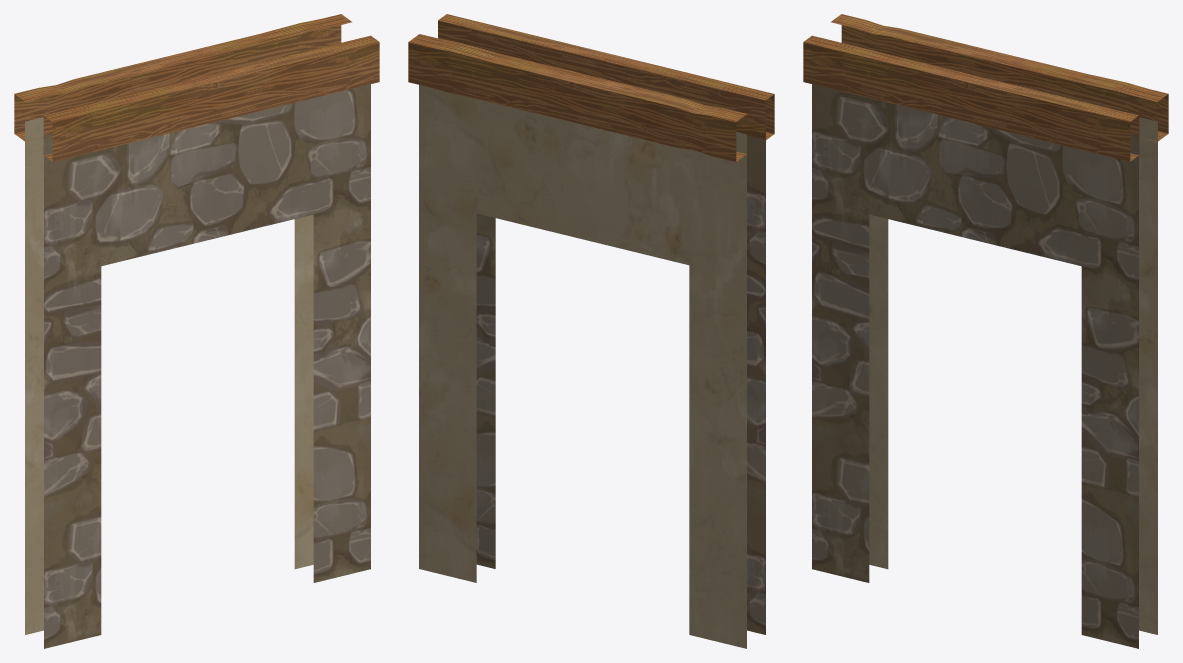
Rendered from Wall_UnevenBrick_Door_Flat.gltf.
3 renders of one model, left to right at view 1: azimuth 30°, elevation 25°; view 2: azimuth 150°, elevation 25°; view 3: azimuth 330°, elevation 25°, orthographic.
Parts seen in each view (by area): view 1: Wall_UnevenBrick_Door_Flat; view 2: Wall_UnevenBrick_Door_Flat; view 3: Wall_UnevenBrick_Door_Flat.
Part boxes in pixels (box(x1,y1,x2,y2)): Wall_UnevenBrick_Door_Flat: box(14, 14, 379, 648); Wall_UnevenBrick_Door_Flat: box(408, 14, 774, 648); Wall_UnevenBrick_Door_Flat: box(803, 14, 1168, 648).
Size of the model in its own units: 2 by 3.12 by 0.4065.
Materials: 3 (3 with a texture image).
